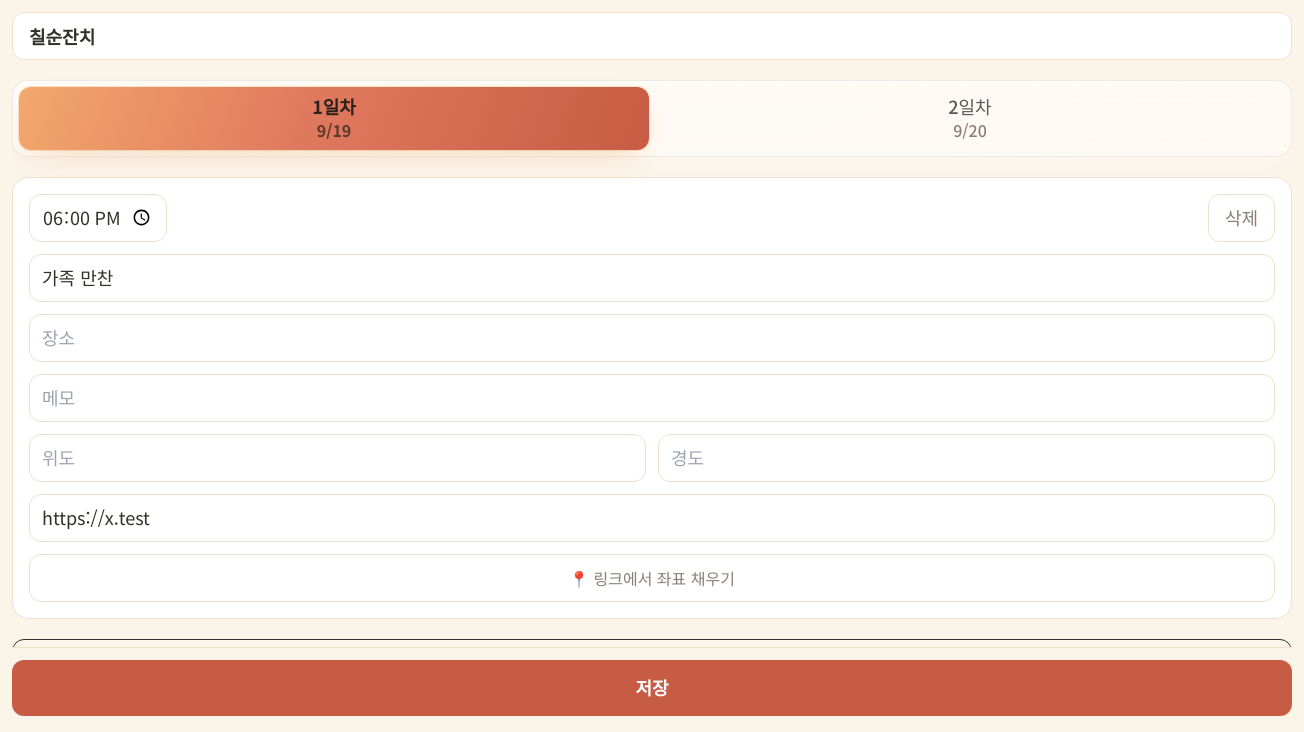
Test case: AdminForm › 링크를 비우면 payload 에서 빠진다(빈 문자열 url 로 인한 400 방지)
The image size is (1304, 732).
Clear the field named "링크". click: point(652, 518)
box: [29,494,1275,542]
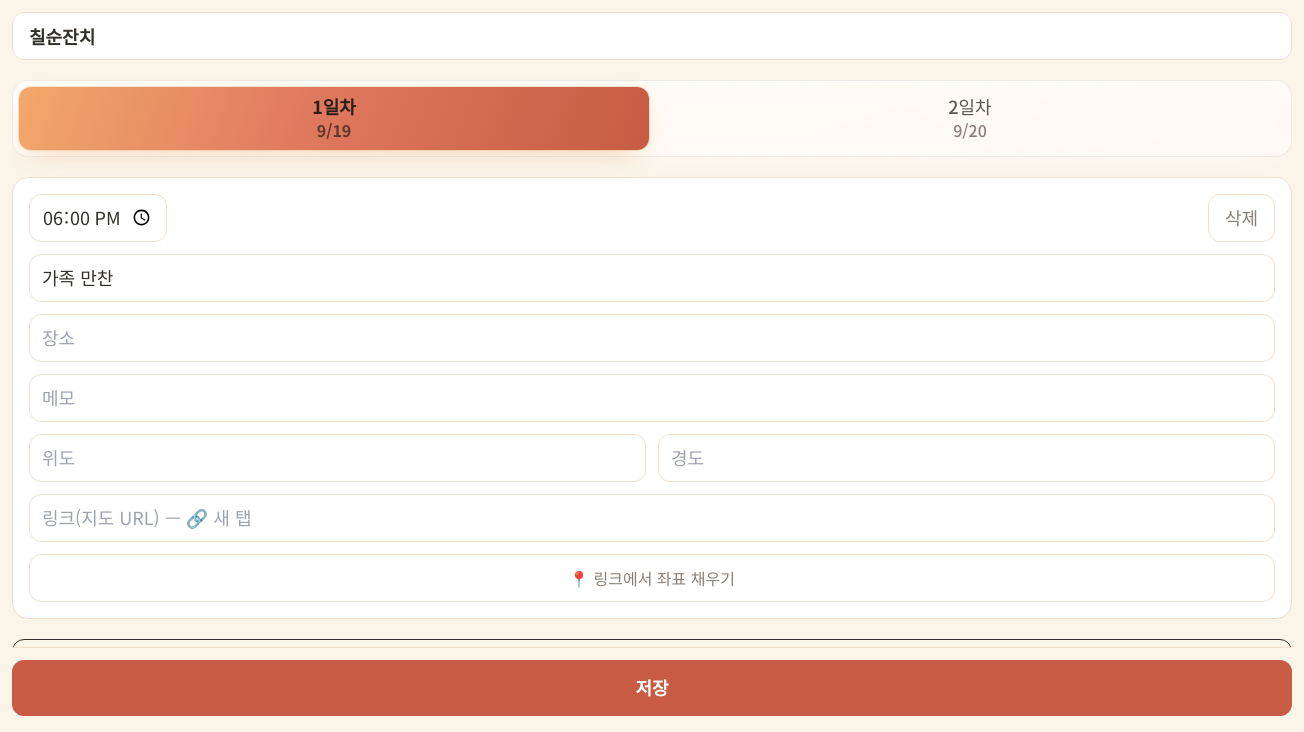
Click the button "저장". click: point(652, 688)
box: [12,660,1292,716]
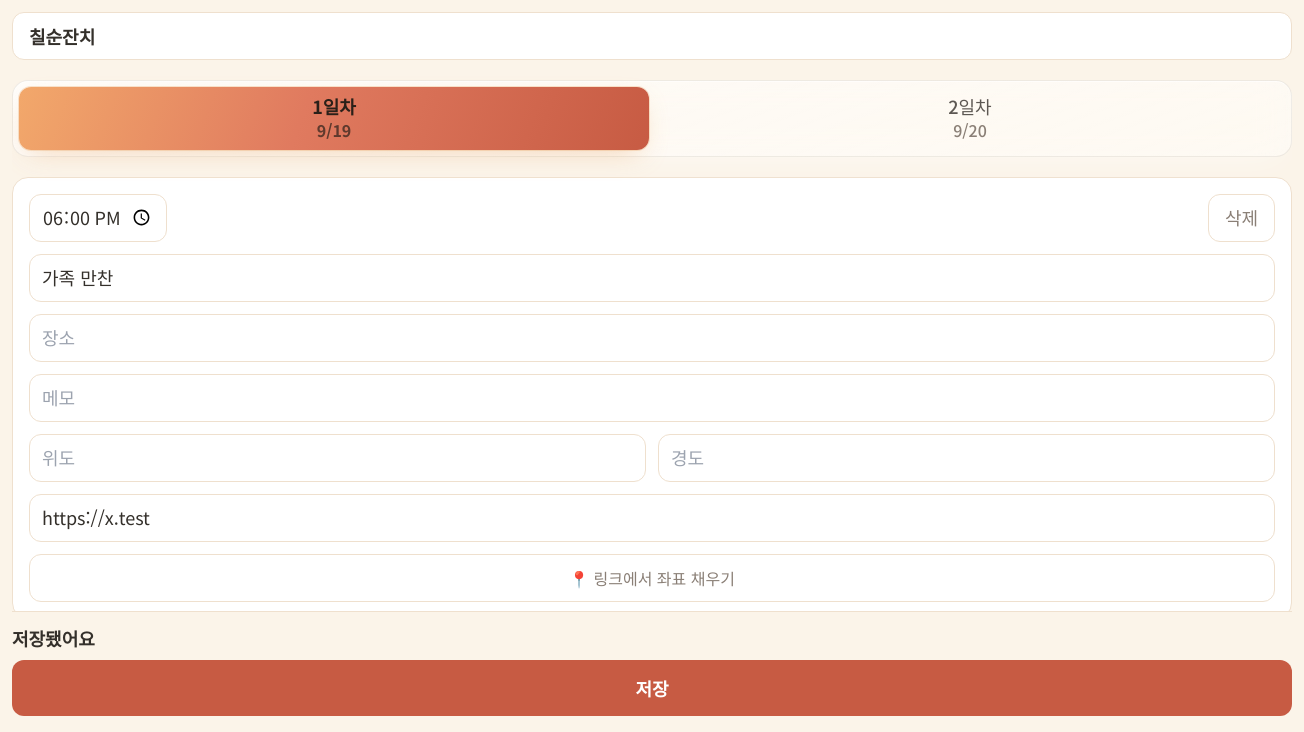
Check: the text "저장됐어요" is shown, box [12,624,95,650]
